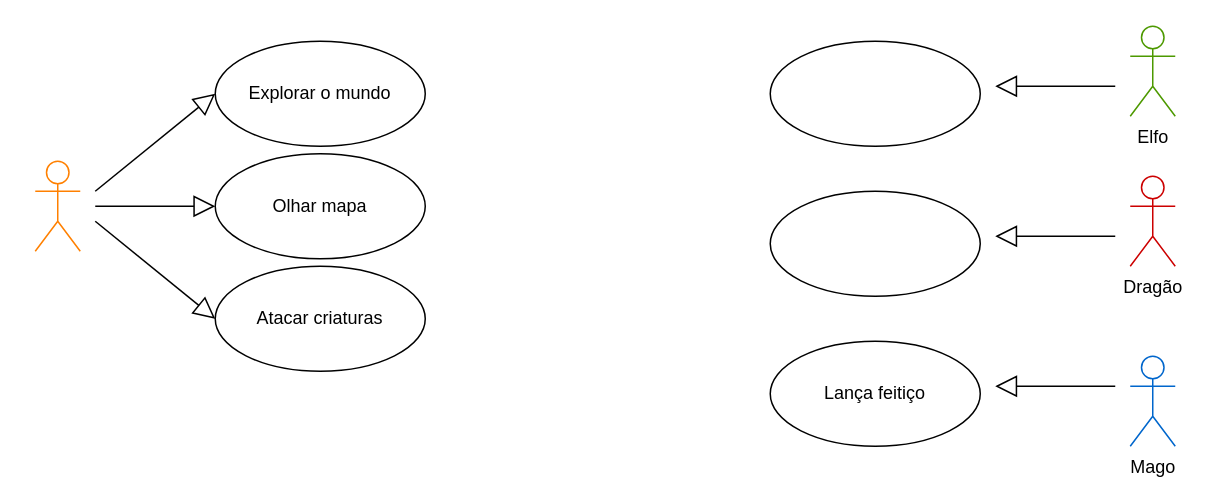
The diagram is 1208 pixels wide and 504 high, and some of its shapes have lost their labels. The centre of each missing label's shape, as x and y in pixels:
"Gospe fogo" goes at pixel 874 243.
"Jogador" goes at pixel 57 205.
"Lança flecha" goes at pixel 874 93.
